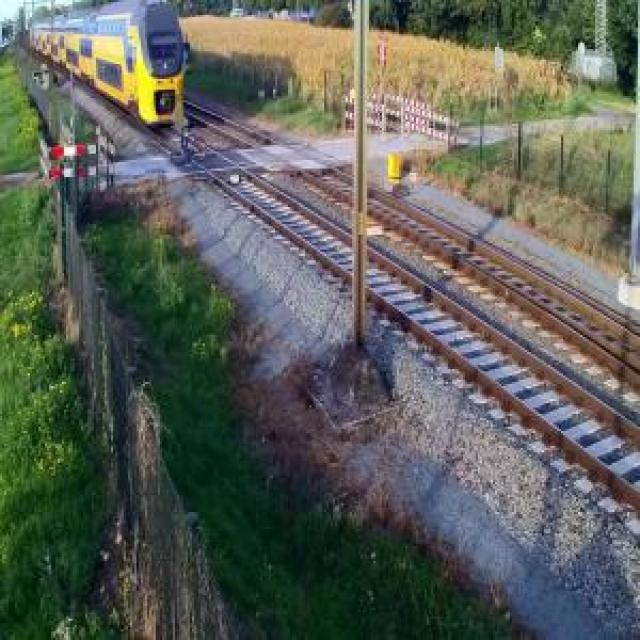danger: (171, 106, 207, 168)
rail: (136, 122, 640, 537), (183, 85, 640, 403)
